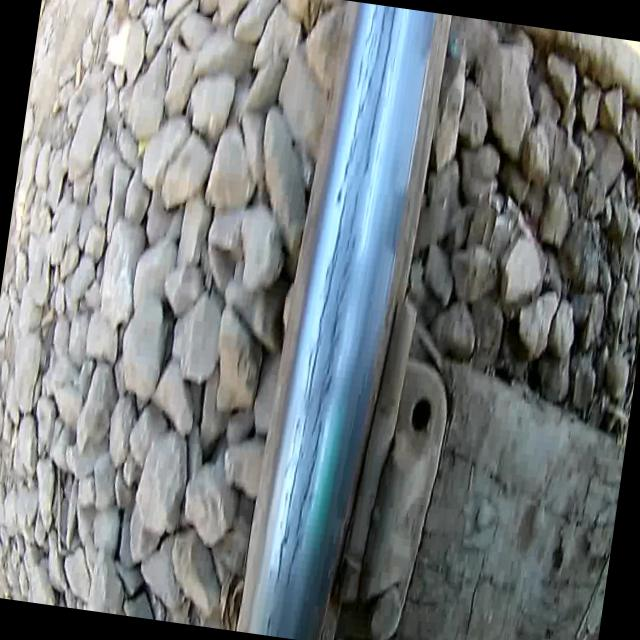Cracks: (260, 1, 399, 640)
